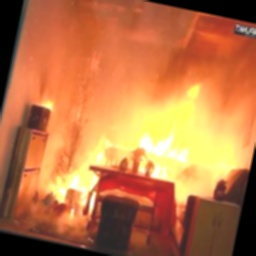fire: (63, 47, 256, 211)
